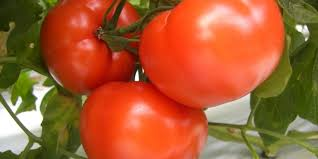tomato: (139, 6, 286, 109), (72, 83, 212, 156), (42, 3, 145, 96)
